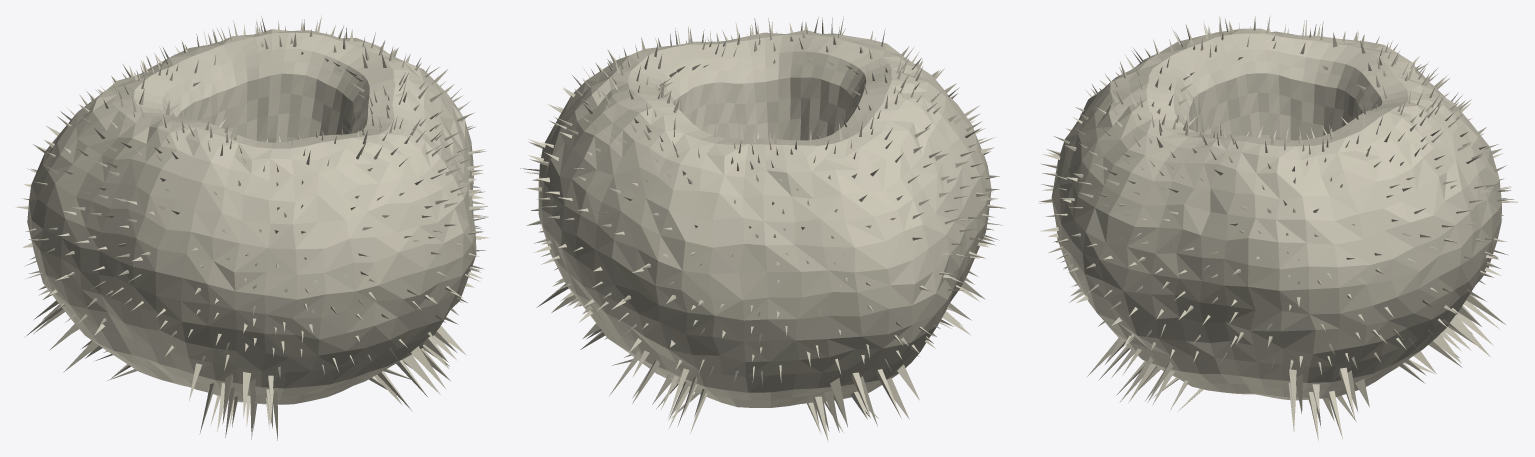
3 views of the same model, side by side, from view 1: azimuth 30°, elevation 25°; view 2: azimuth 150°, elevation 25°; view 3: azimuth 270°, elevation 25° (orthographic).
Parts seen in each view (by area): view 1: NEW647_Whole_living_glass_sponge; view 2: NEW647_Whole_living_glass_sponge; view 3: NEW647_Whole_living_glass_sponge.
Boxes of the visible parts, x1=… form: NEW647_Whole_living_glass_sponge: x1=15, y1=15, x2=489, y2=440; NEW647_Whole_living_glass_sponge: x1=520, y1=16, x2=1006, y2=441; NEW647_Whole_living_glass_sponge: x1=1038, y1=15, x2=1517, y2=442.
Size of the model in its own units: 0.1664 by 0.1104 by 0.1626.
